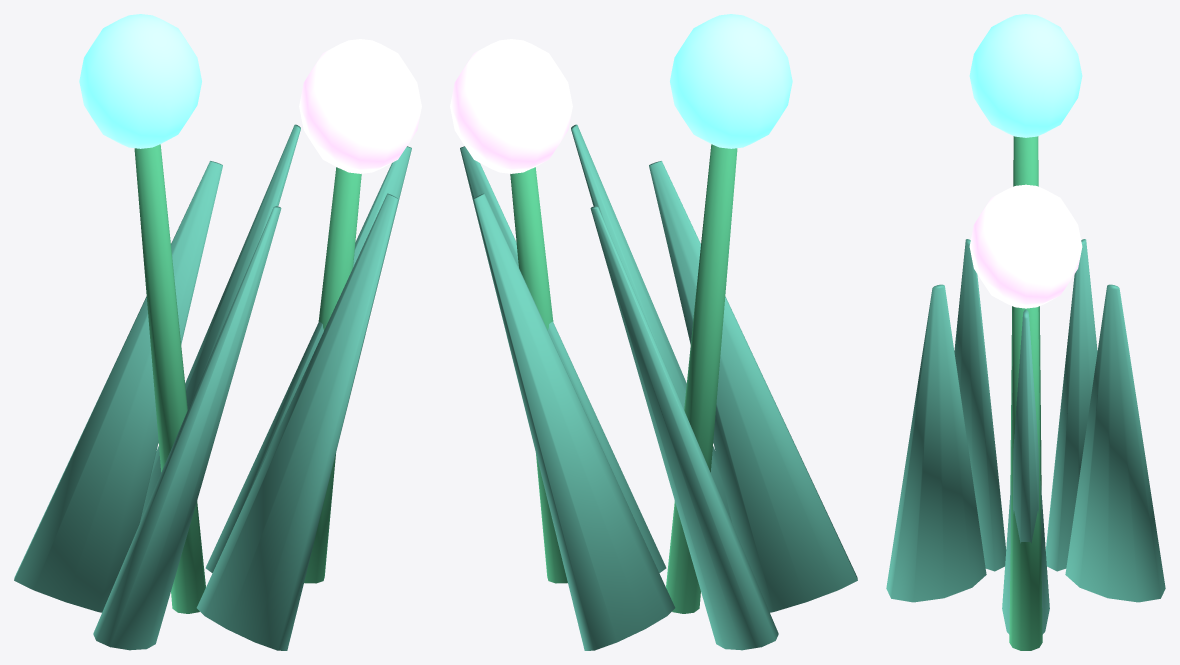
File: GlowingFloraTuft.fbx
3 views of the same model, side by side, from view 1: azimuth 30°, elevation 25°; view 2: azimuth 150°, elevation 25°; view 3: azimuth 270°, elevation 25° (orthographic). The views are drawn at different scales.
Parts seen in each view (by area): view 1: GlowingFloraTuft; view 2: GlowingFloraTuft; view 3: GlowingFloraTuft.
Part boxes in pixels (x1,y1,x2,y2): GlowingFloraTuft: [14, 14, 421, 650]; GlowingFloraTuft: [450, 14, 857, 650]; GlowingFloraTuft: [886, 14, 1165, 650].
Size of the model in its own units: 57.27 by 42.07 by 92.48.
1 material, 1 textured.
